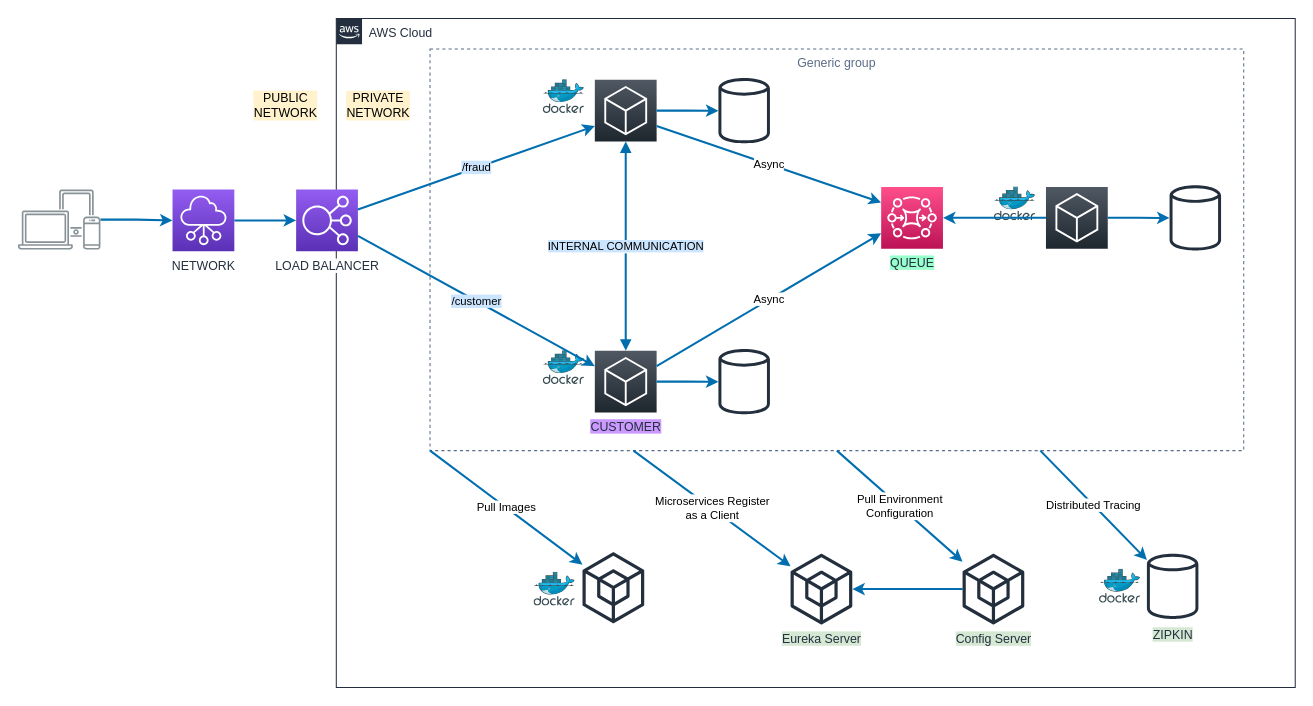
Some shapes in this 1313 by 706 pixel diagram are drawn without their labels. The centre of each missing label's shape, as x and y in pixels:
DEVICES: point 59,219
FRAUD: point 625,110
NOTIFICATION: point 1076,217
Private Docker Registry: point 613,587
